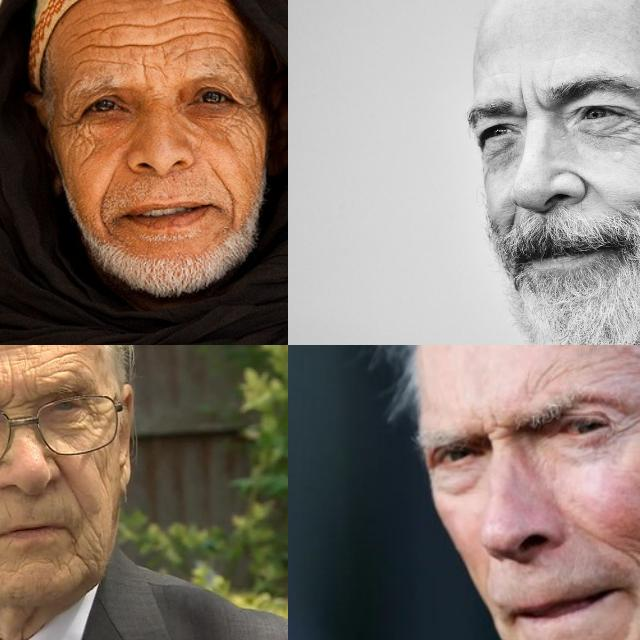crows_feet: (232, 90, 260, 132), (610, 408, 640, 443), (57, 106, 85, 140), (83, 402, 103, 428), (630, 104, 640, 146)
forehead: (186, 2, 224, 60), (70, 17, 106, 69), (522, 358, 564, 396), (112, 34, 172, 60), (116, 14, 180, 36), (48, 346, 84, 362), (42, 366, 76, 380), (4, 359, 20, 387), (618, 345, 640, 360), (1, 345, 39, 353)
frown_line: (480, 414, 516, 446), (518, 78, 544, 118), (5, 392, 38, 412), (138, 63, 158, 91)
gummy_smile: (587, 525, 640, 568), (210, 162, 240, 210), (95, 168, 119, 222), (57, 461, 81, 501)
masseter: (92, 458, 116, 492)
sad_smile: (64, 528, 90, 562)
